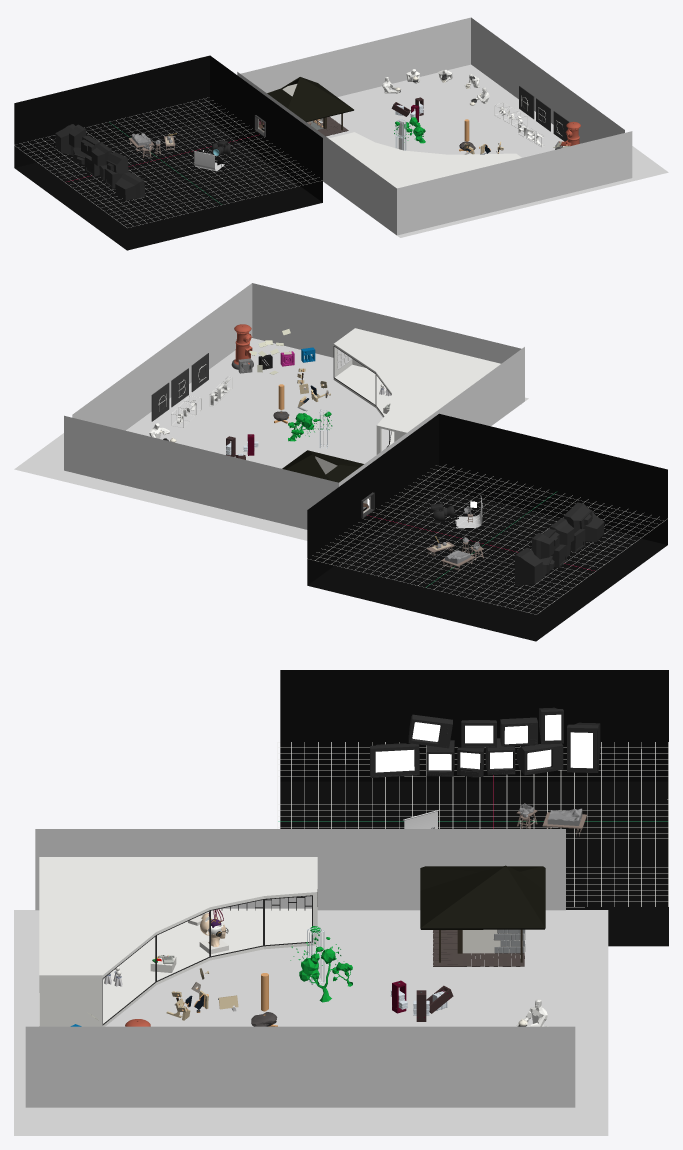
The model's file is new-atelier.glb.
3 renders of one model, top to bottom at view 1: azimuth 30°, elevation 25°; view 2: azimuth 150°, elevation 25°; view 3: azimuth 270°, elevation 25°, orthographic. The views are drawn at different scales.
Parts seen in each view (by area): view 1: void-space, outer-fence, ground, museum-building-roof, virtual-grid, analog-tv-shells, atelier-roof, masu-typo, comforting-dinner, beauty-of-time-passing, intervention-in-our-disconnection, ambience-of-light (+2 smaller); view 2: void-space, outer-fence, ground, museum-building-roof, virtual-grid, analog-tv-shells, masu-typo, museum-building-floor, atelier-roof, post-box, intervention-in-our-disconnection, beauty-of-time-passing; view 3: outer-fence, ground, void-space, museum-building-roof, museum-building-floor, atelier-roof, analog-tv-shells, virtual-grid, museum-building-walls, atelier-engawa, beauty-of-time-passing, intervention-in-our-disconnection (+8 smaller).
Boxes of the visible parts, <box> form: void-space: <box>14,55,322,250</box>; outer-fence: <box>237,17,632,235</box>; ground: <box>326,64,668,237</box>; museum-building-roof: <box>329,132,521,188</box>; virtual-grid: <box>14,97,322,227</box>; analog-tv-shells: <box>55,124,145,200</box>; atelier-roof: <box>267,77,353,122</box>; masu-typo: <box>494,86,569,146</box>; comforting-dinner: <box>382,69,489,105</box>; beauty-of-time-passing: <box>394,117,425,150</box>; intervention-in-our-disconnection: <box>459,119,503,154</box>; ambience-of-light: <box>391,97,423,122</box>; void-space: <box>307,413,667,641</box>; outer-fence: <box>64,283,524,529</box>; ground: <box>14,338,528,540</box>; museum-building-roof: <box>333,328,500,434</box>; virtual-grid: <box>307,464,668,614</box>; analog-tv-shells: <box>515,502,604,586</box>; masu-typo: <box>151,353,232,427</box>; museum-building-floor: <box>333,364,394,445</box>; atelier-roof: <box>282,450,363,482</box>; post-box: <box>231,324,291,374</box>; intervention-in-our-disconnection: <box>273,368,330,423</box>; beauty-of-time-passing: <box>288,409,332,448</box>; outer-fence: <box>25,829,575,1107</box>; ground: <box>14,910,608,1135</box>; void-space: <box>280,670,668,946</box>; museum-building-roof: <box>39,857,317,978</box>; museum-building-floor: <box>39,908,317,1026</box>; atelier-roof: <box>420,865,545,929</box>; analog-tv-shells: <box>370,707,600,777</box>; virtual-grid: <box>277,742,668,907</box>; museum-building-walls: <box>39,889,317,1025</box>; atelier-engawa: <box>432,930,524,966</box>; beauty-of-time-passing: <box>290,926,352,1002</box>; intervention-in-our-disconnection: <box>166,968,277,1026</box>.
Size of the model in its own units: 85.79 by 12.04 by 60.74.
212 materials, 1 textured.
